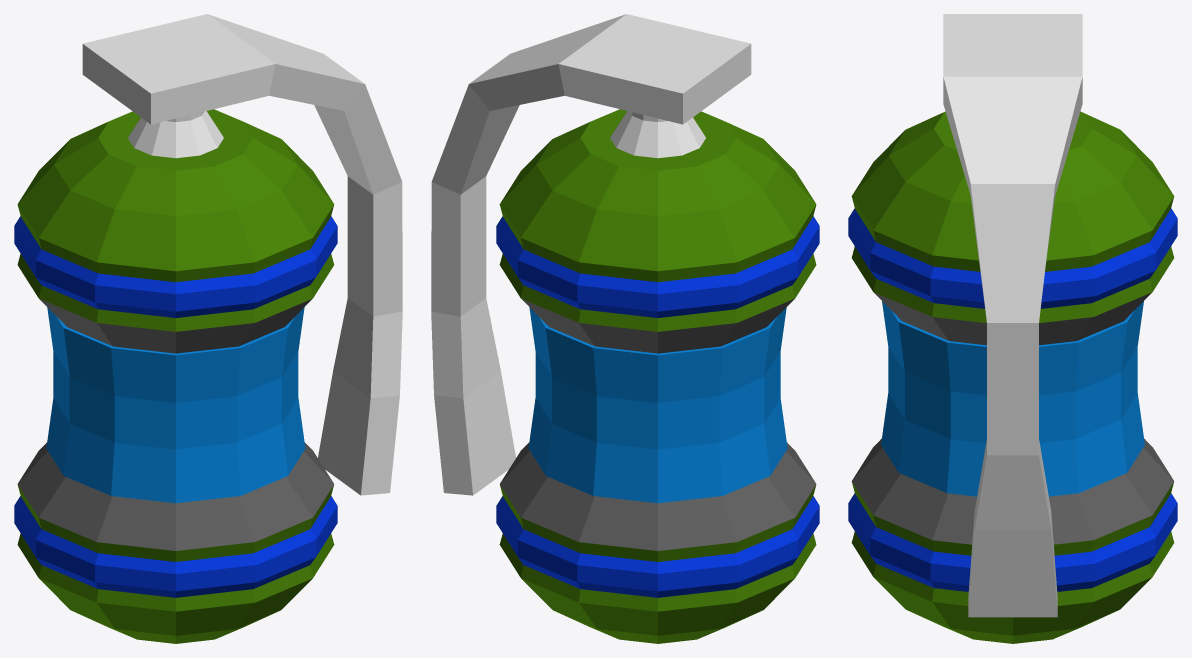
Rendered from Г9 Граната импульсная.fbx.
3 views of the same model, side by side, from view 1: azimuth 30°, elevation 25°; view 2: azimuth 150°, elevation 25°; view 3: azimuth 270°, elevation 25° (orthographic).
Parts seen in each view (by area): view 1: Cylinder, Plane, Cylinder.001; view 2: Cylinder, Plane, Cylinder.001; view 3: Cylinder, Plane, Cylinder.001.
Part boxes in pixels (left/top/right/bottom): Cylinder: left=14, top=109, right=337, bottom=643; Plane: left=82, top=14, right=402, bottom=495; Cylinder.001: left=46, top=307, right=305, bottom=503; Cylinder: left=496, top=109, right=819, bottom=643; Plane: left=431, top=14, right=751, bottom=495; Cylinder.001: left=528, top=307, right=787, bottom=503; Cylinder: left=848, top=111, right=1177, bottom=643; Plane: left=943, top=14, right=1082, bottom=617; Cylinder.001: left=881, top=301, right=1144, bottom=496.
Size of the model in its own units: 336 by 504 by 265.
